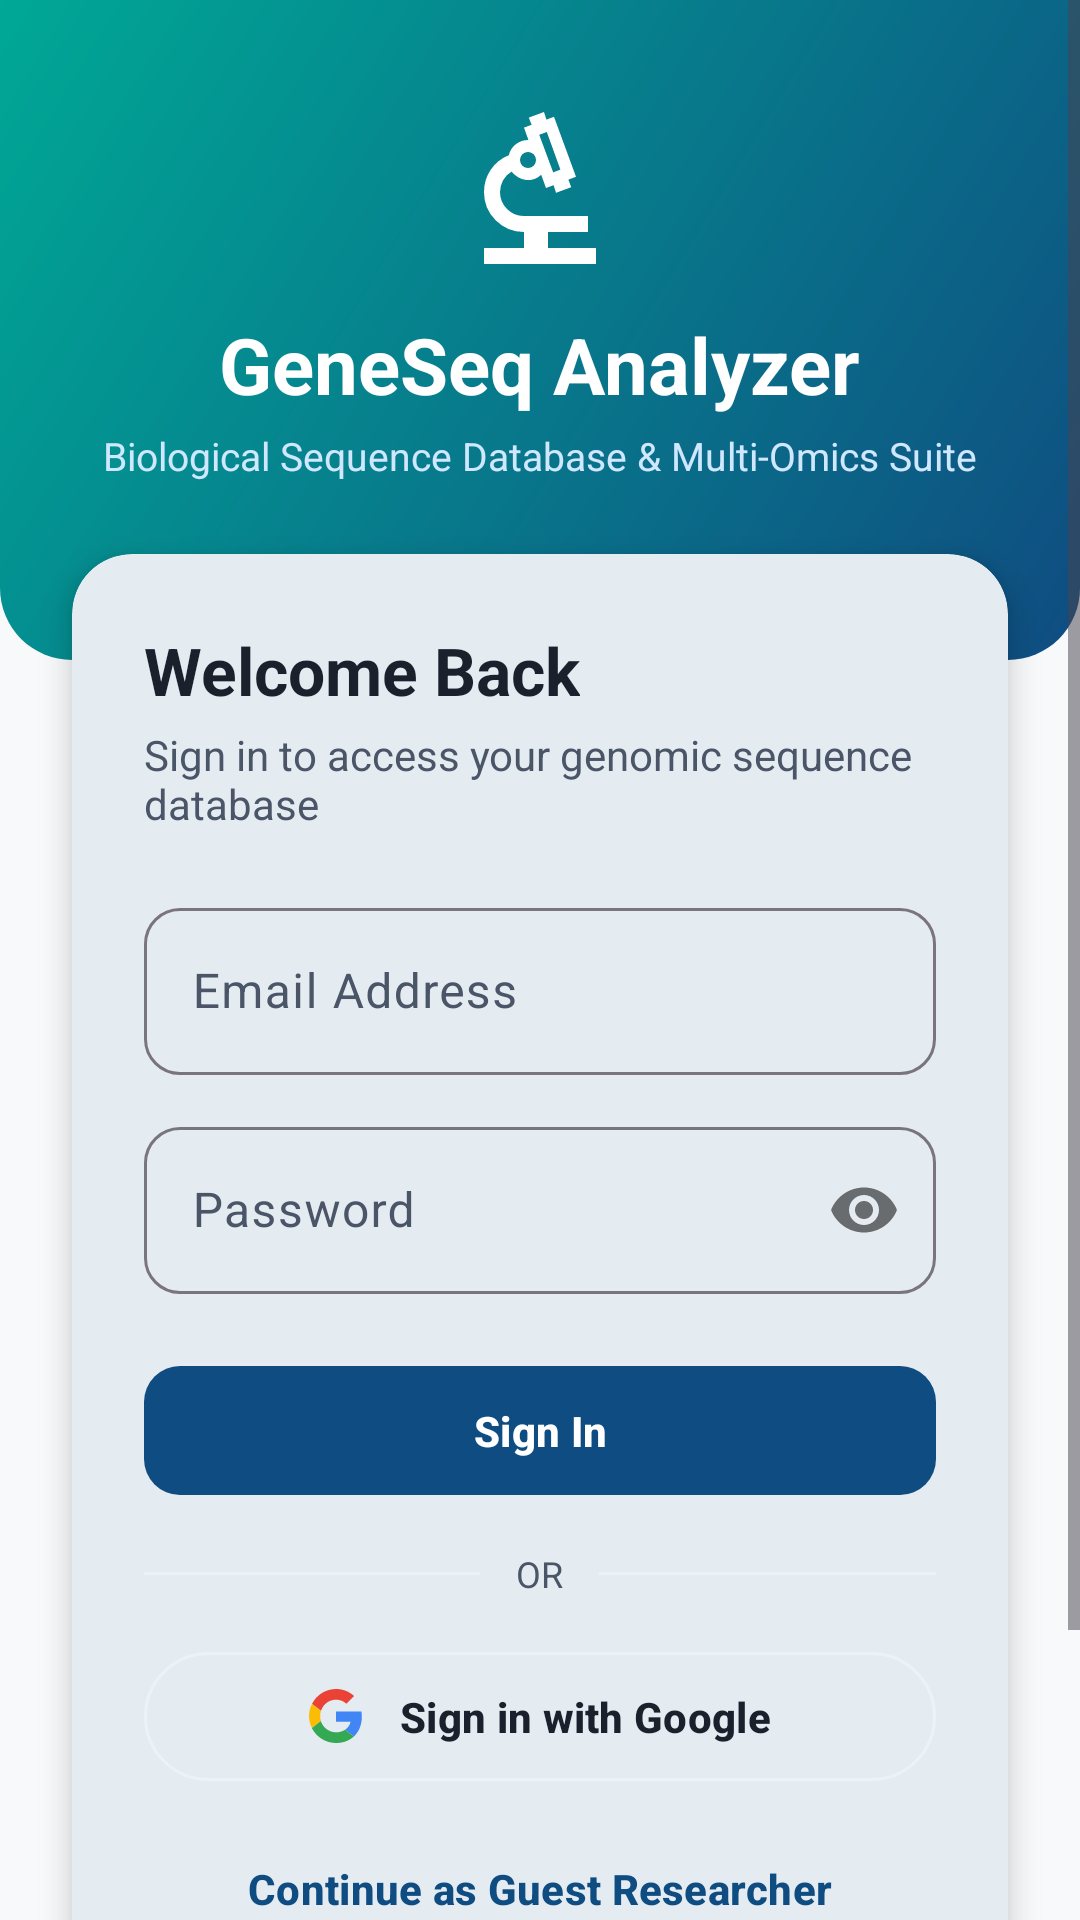

Icons on this 1080 × 1920 Android screen, each with the point to tap as (x,y):
biotech: (540,188)
